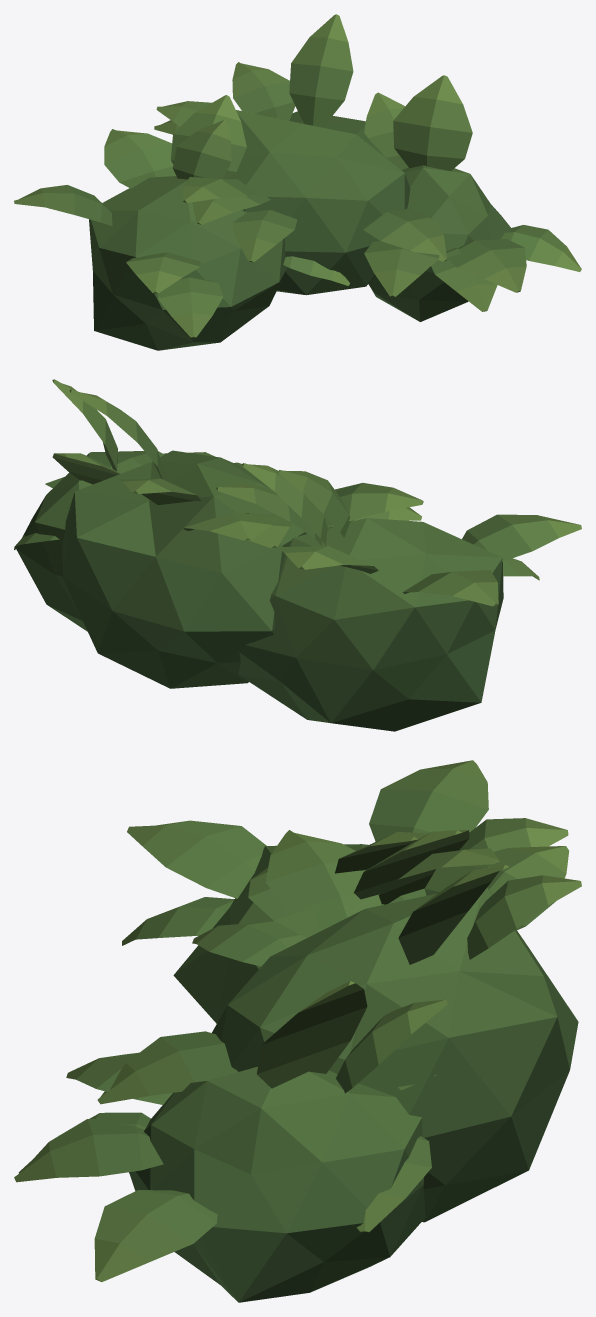
Rendered from Bush2_leaf.glb.
3 renders of one model, top to bottom at view 1: azimuth 30°, elevation 25°; view 2: azimuth 150°, elevation 25°; view 3: azimuth 270°, elevation 25°, orthographic. The views are drawn at different scales.
Parts seen in each view (by area): view 1: Bush2_leaf; view 2: Bush2_leaf; view 3: Bush2_leaf.
Part boxes in pixels (bbox=[...]): Bush2_leaf: bbox=[14, 14, 581, 350]; Bush2_leaf: bbox=[14, 379, 581, 731]; Bush2_leaf: bbox=[14, 760, 581, 1302].
Size of the model in its own units: 5.53 by 2.88 by 3.65.
